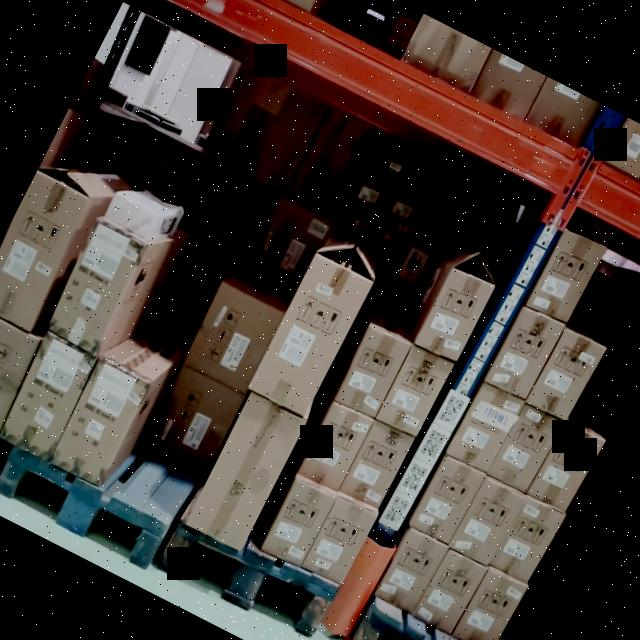box: (248, 252, 372, 416), (186, 394, 306, 552), (0, 170, 88, 334), (44, 220, 148, 354), (50, 362, 148, 488), (2, 337, 98, 460), (182, 283, 284, 393), (147, 365, 245, 470), (484, 305, 564, 401), (528, 328, 606, 422), (416, 268, 494, 362), (248, 201, 330, 290), (297, 401, 373, 494), (528, 228, 604, 320), (377, 345, 453, 437), (334, 327, 410, 418), (409, 456, 485, 546), (304, 494, 378, 584), (261, 478, 336, 566), (488, 404, 562, 493), (491, 497, 564, 584), (340, 420, 412, 508), (414, 548, 486, 634), (449, 385, 521, 470), (531, 423, 600, 511), (452, 478, 522, 564), (377, 530, 445, 614), (0, 304, 41, 431), (455, 569, 524, 640), (379, 166, 438, 241), (349, 156, 403, 222)
